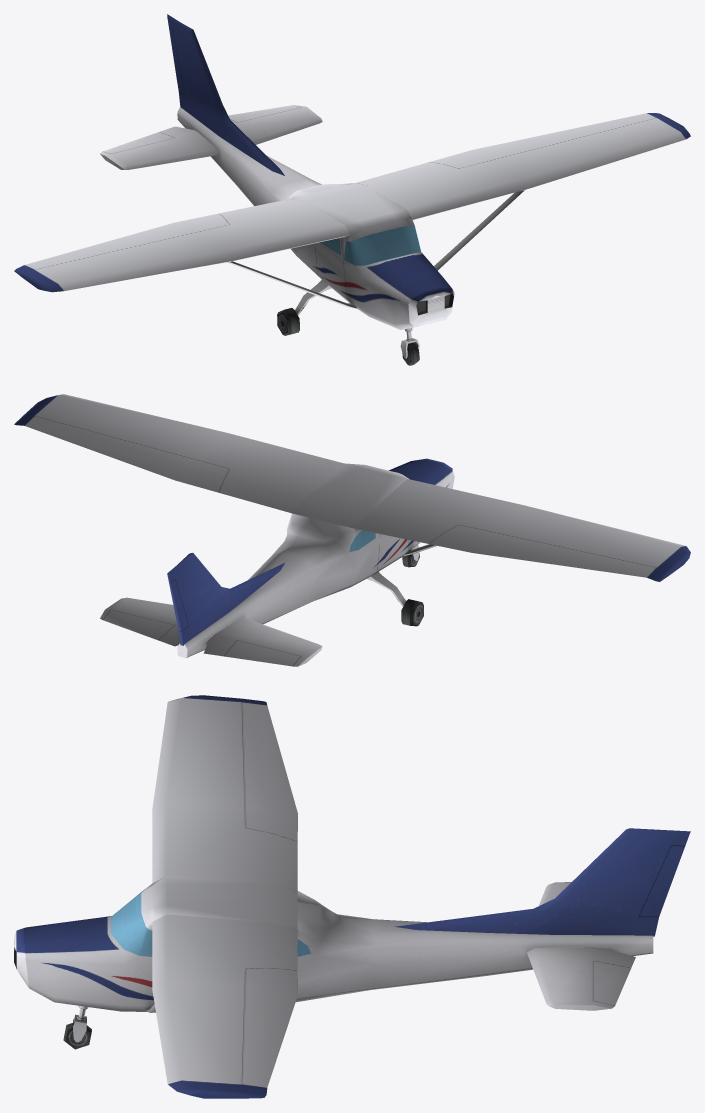
The model's file is airplaneBody.obj.
3 views of the same model, one above another, from view 1: azimuth 30°, elevation 25°; view 2: azimuth 150°, elevation 25°; view 3: azimuth 270°, elevation 25° (orthographic). The views are drawn at different scales.
Parts seen in each view (by area): view 1: awionetka; view 2: awionetka; view 3: awionetka.
Part boxes in pixels (left/top/right/bottom): awionetka: left=14, top=14, right=690, bottom=365; awionetka: left=14, top=394, right=690, bottom=666; awionetka: left=14, top=695, right=690, bottom=1098.
Bounding box in the file's own units: 130 × 33.63 × 93.82.
